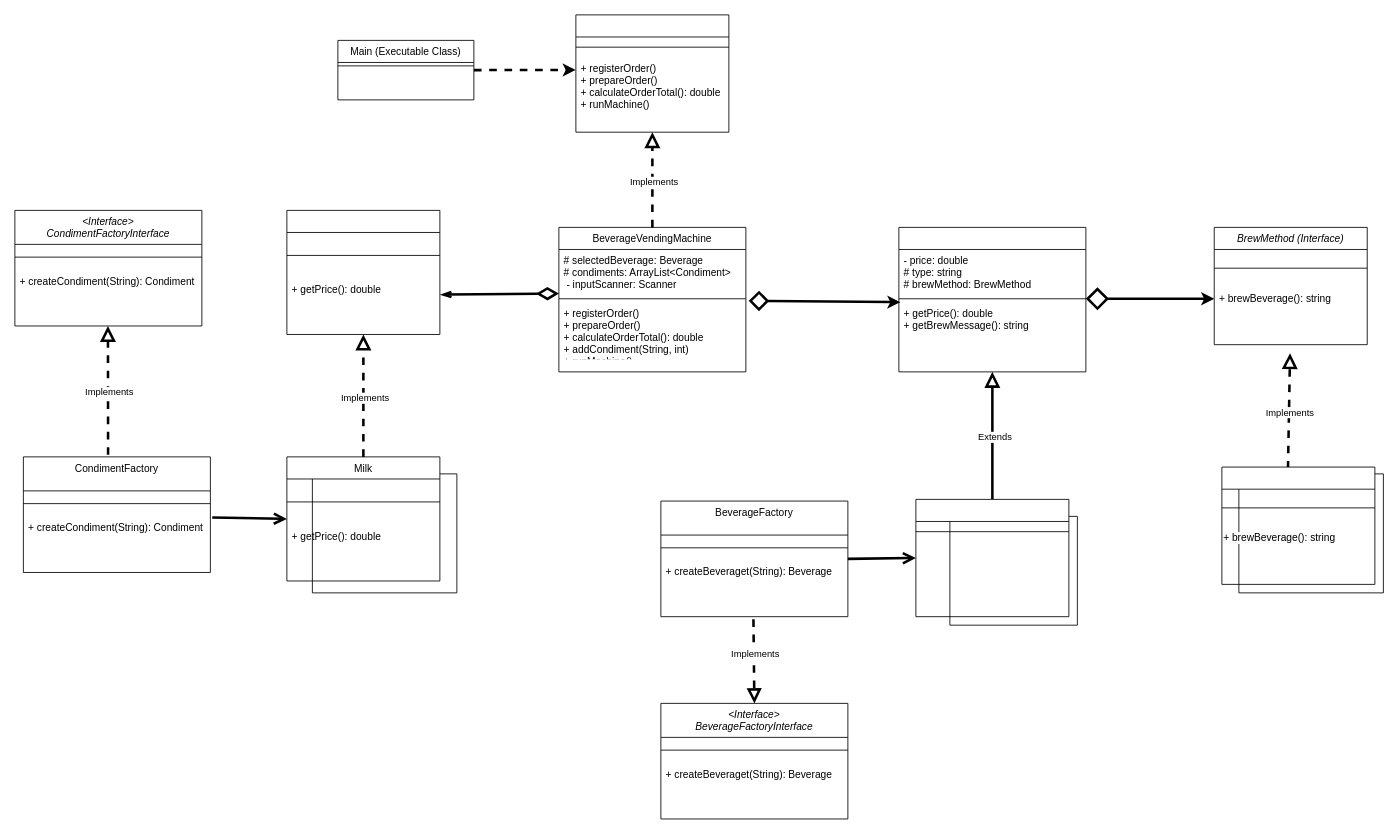
This 1398x836 diagram has some shape labels left out. The shapes that lost their labels are listed below. From the top down, each one's box as (x1, y1, x2, y2) in pixels, then its label:
(575, 14, 729, 132): VendingMachine (Interface)
(286, 210, 440, 334): Condiment (Interface)
(898, 227, 1086, 372): Beverage (Abstract)
(1221, 466, 1375, 584): PullCoffee
(915, 499, 1069, 617): Americano
